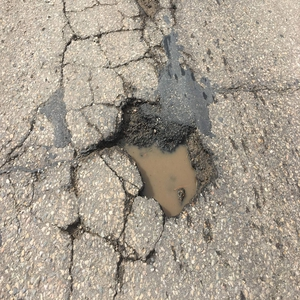pothole: (93, 115, 221, 222)
